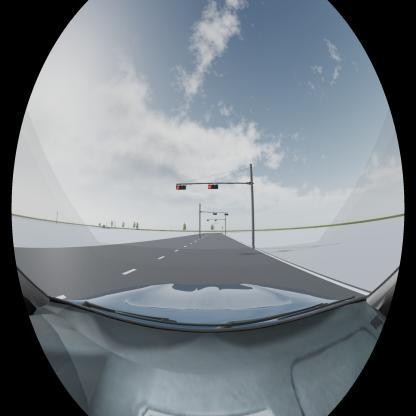Red Light: (175, 184, 187, 191), (208, 184, 219, 190)
